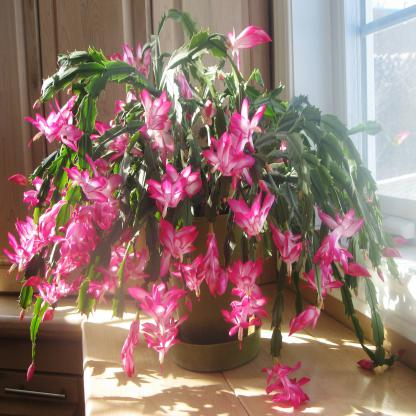Aglonema: (15, 47, 416, 247)
